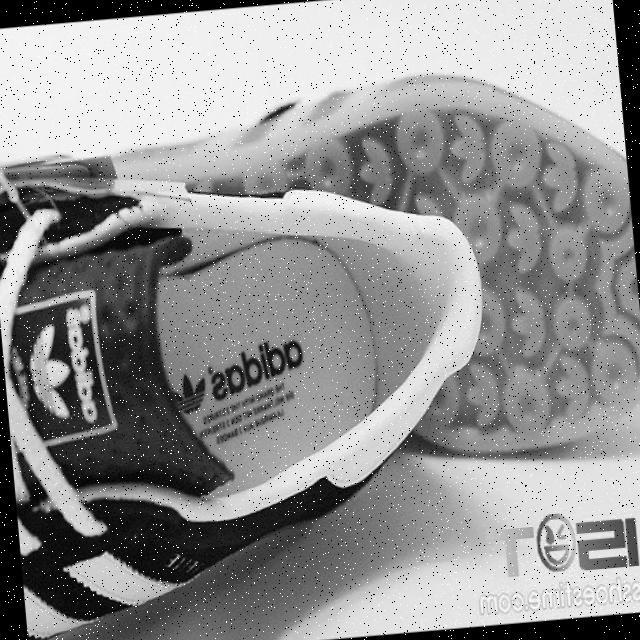Adidas: (20, 290, 99, 443)
